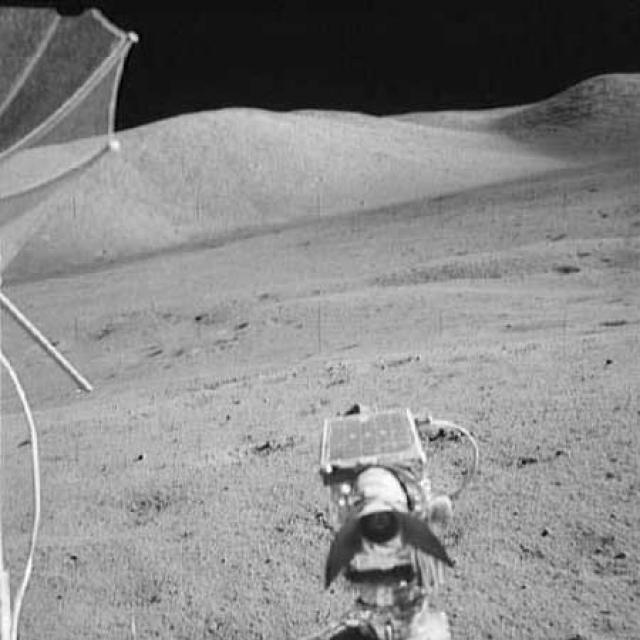artifact: (0, 4, 143, 639), (260, 391, 516, 639)
crater: (281, 260, 578, 294)
